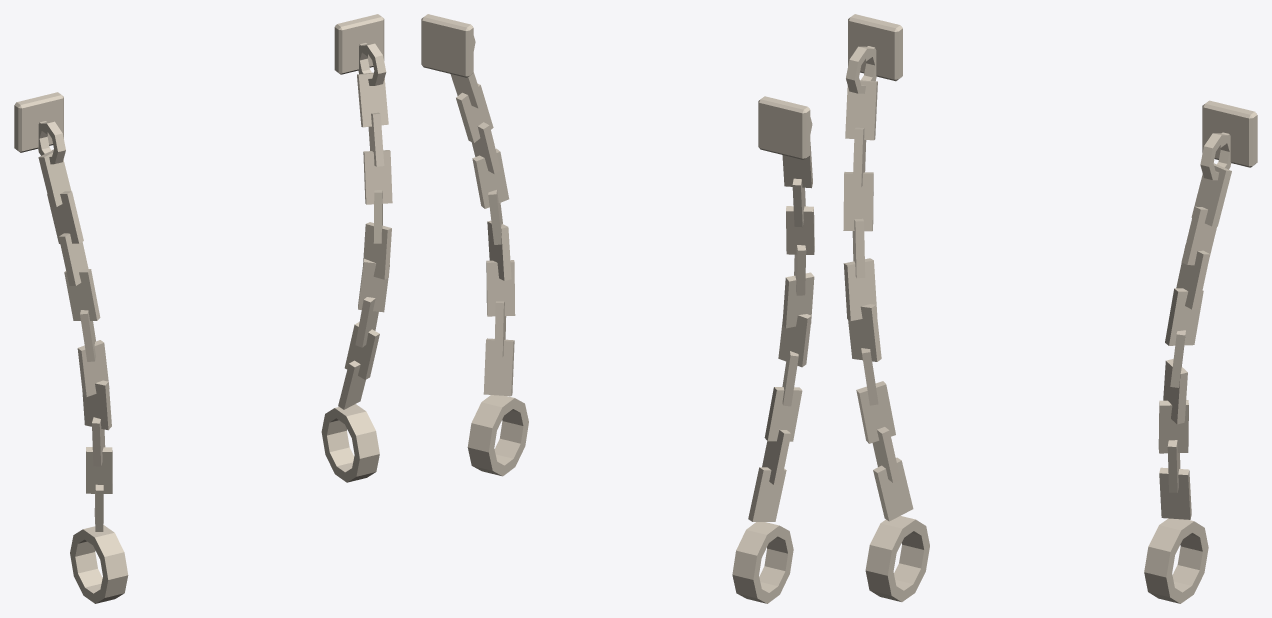
Rendered from SM_VKI_Prop_Chains_Wall.fbx.
3 renders of one model, left to right at view 1: azimuth 30°, elevation 25°; view 2: azimuth 150°, elevation 25°; view 3: azimuth 330°, elevation 25°, orthographic. The views are drawn at different scales.
Visible parts, largest first — view 1: SM_VKI_Prop_Chains_Wall.001; view 2: SM_VKI_Prop_Chains_Wall.001; view 3: SM_VKI_Prop_Chains_Wall.001.
Boxes of the visible parts, x1=… form: SM_VKI_Prop_Chains_Wall.001: x1=14, y1=14, x2=392, y2=603; SM_VKI_Prop_Chains_Wall.001: x1=421, y1=14, x2=814, y2=603; SM_VKI_Prop_Chains_Wall.001: x1=843, y1=14, x2=1257, y2=603.
Size of the model in its own units: 0.64 by 0.8254 by 0.1295.
